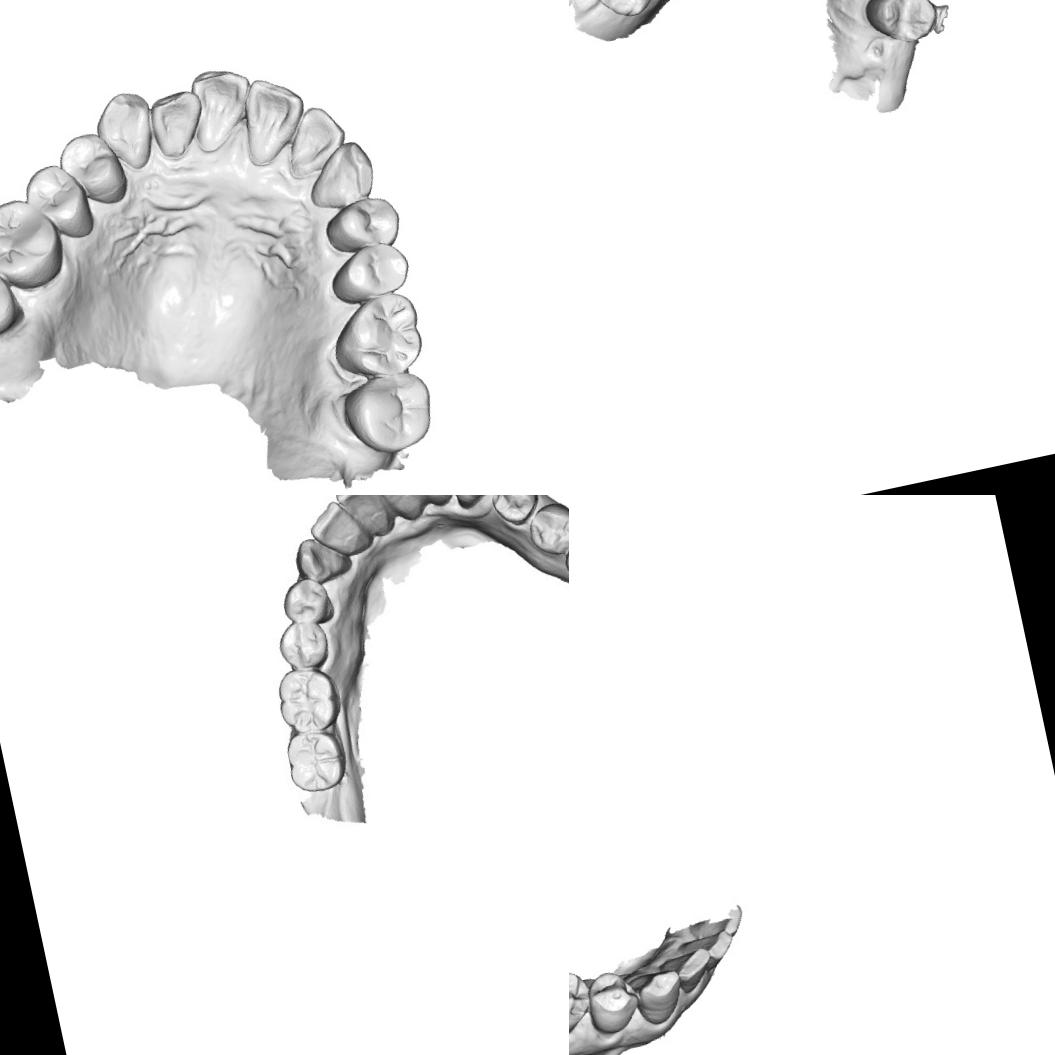canine: (300, 134, 390, 215), (87, 86, 163, 178), (287, 528, 357, 588), (628, 964, 689, 1030), (441, 495, 500, 512)
incisor: (231, 70, 315, 168), (179, 63, 263, 159), (277, 101, 353, 178), (144, 86, 212, 164), (304, 497, 368, 562), (659, 944, 720, 1000), (328, 495, 392, 546), (674, 928, 737, 966), (368, 495, 424, 523), (407, 495, 458, 511)
molar: (323, 286, 431, 388), (336, 364, 442, 464), (0, 190, 71, 301), (271, 662, 346, 738), (278, 724, 352, 798), (0, 248, 22, 350), (580, 0, 669, 25)
premolar: (18, 156, 96, 248), (322, 236, 419, 308), (54, 126, 132, 214), (319, 192, 406, 260), (580, 966, 646, 1040), (274, 573, 343, 634), (860, 0, 937, 51), (273, 613, 336, 675), (523, 496, 569, 558), (569, 964, 600, 1041), (483, 495, 541, 530)
